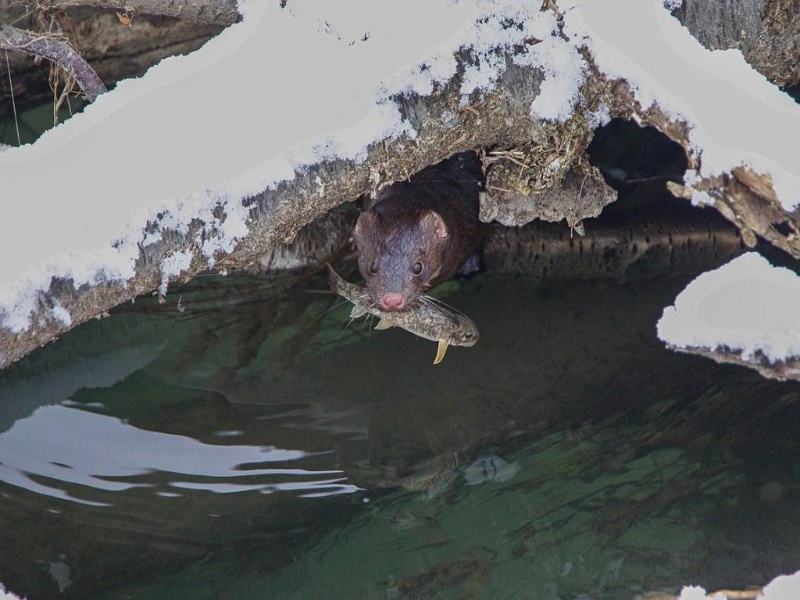minkish: (351, 174, 486, 314)
